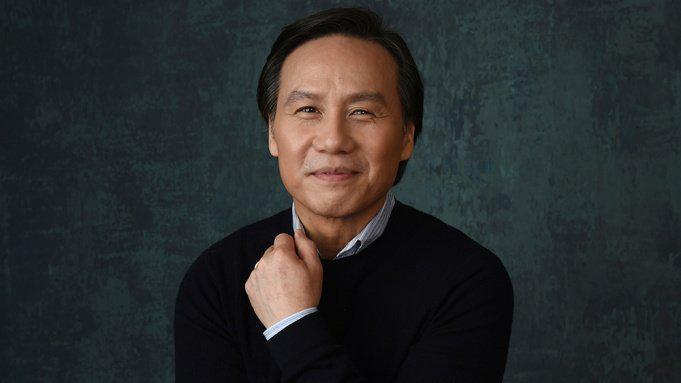Sober: (283, 48, 396, 208)
